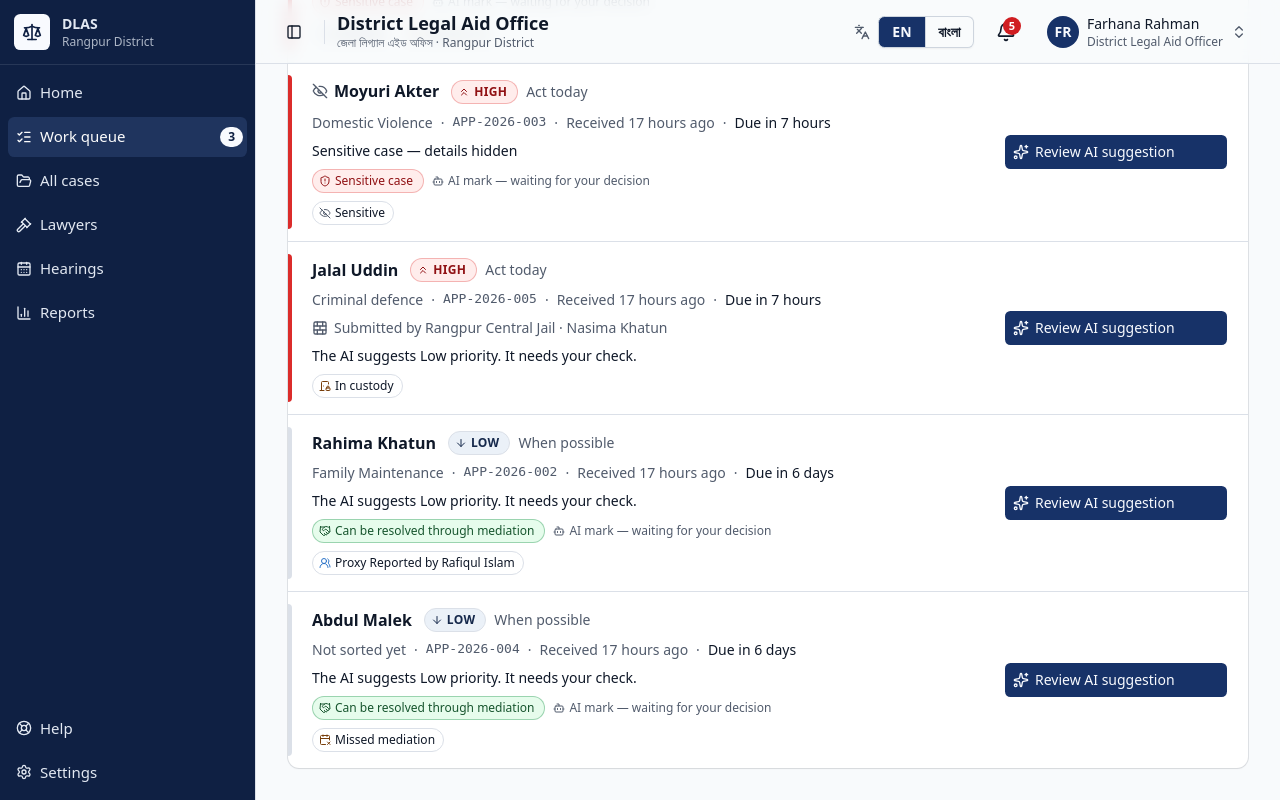
with a backend (VITE_API_URL) › shows the lawyer's court reports and the hearings the server reports
(page scrolled)
Click the button "Rahima Khatun" at x=374, y=443, box [312,431,436,455]
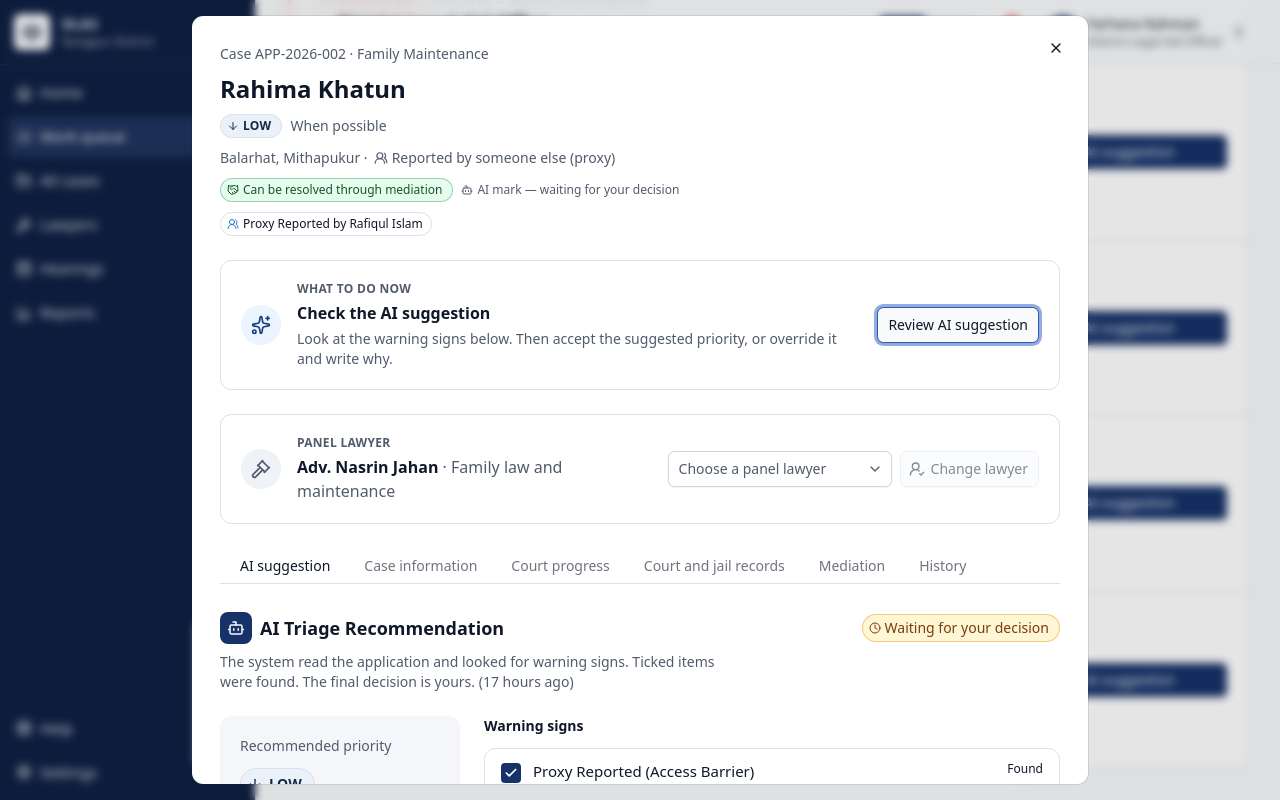
Click the tab "Court progress" at x=561, y=566, box [494,546,627,586]
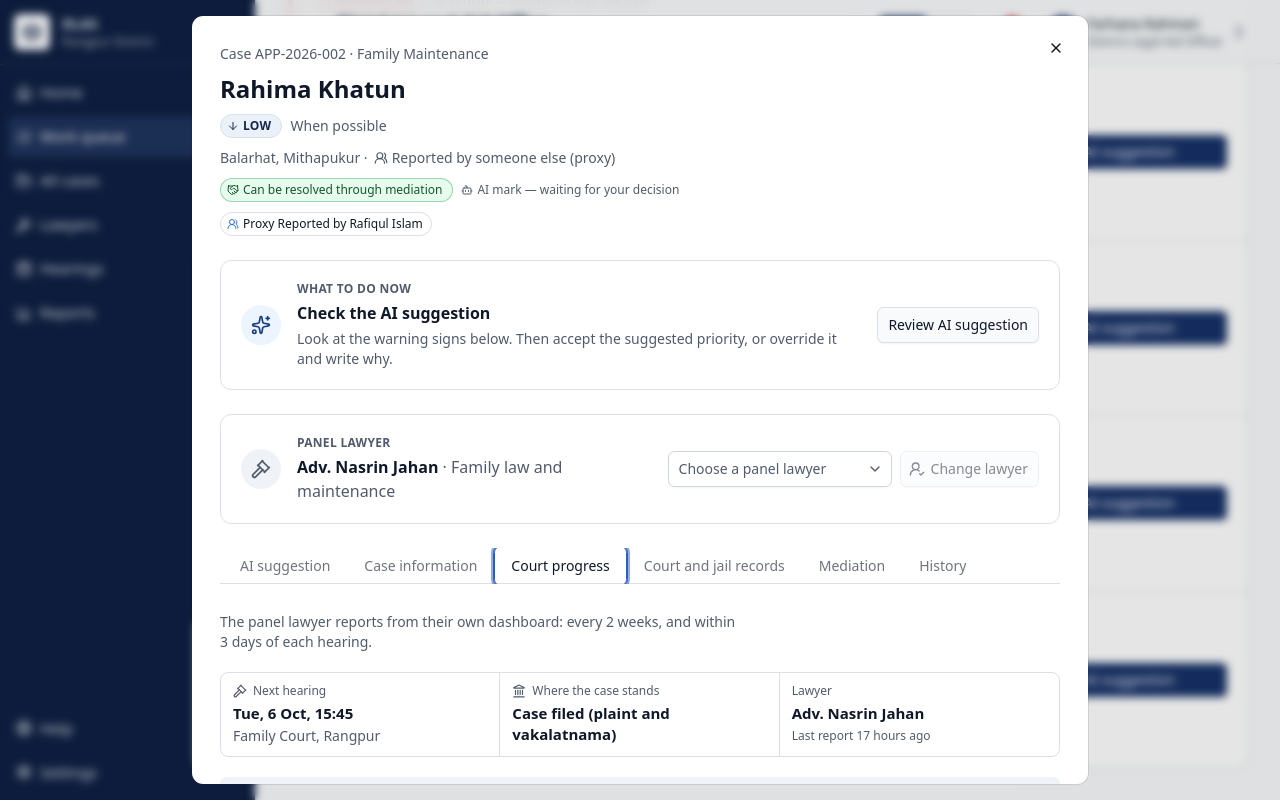
Now the panel shows "Adv. Nasrin Jahan", box [792,703,924,723]
Click the tab "Case information" at x=421, y=566, box [347,546,494,586]
(page scrolled)
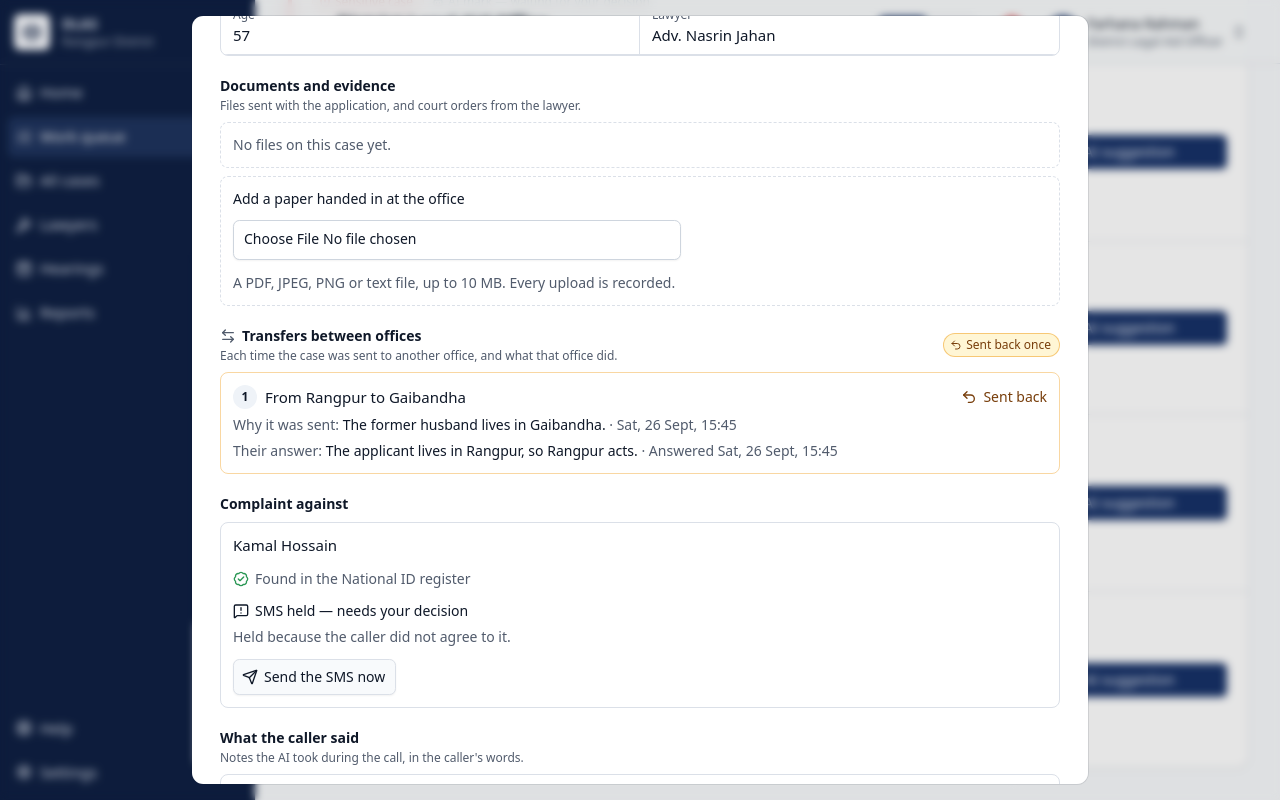
Now the element "Transfers between offices" shows "From Rangpur to Gaibandha", box [265,387,466,407]
Now the element "Transfers between offices" shows "The applicant lives in Rangpur, so Rangpur acts.", box [326,441,638,460]
Press Escape
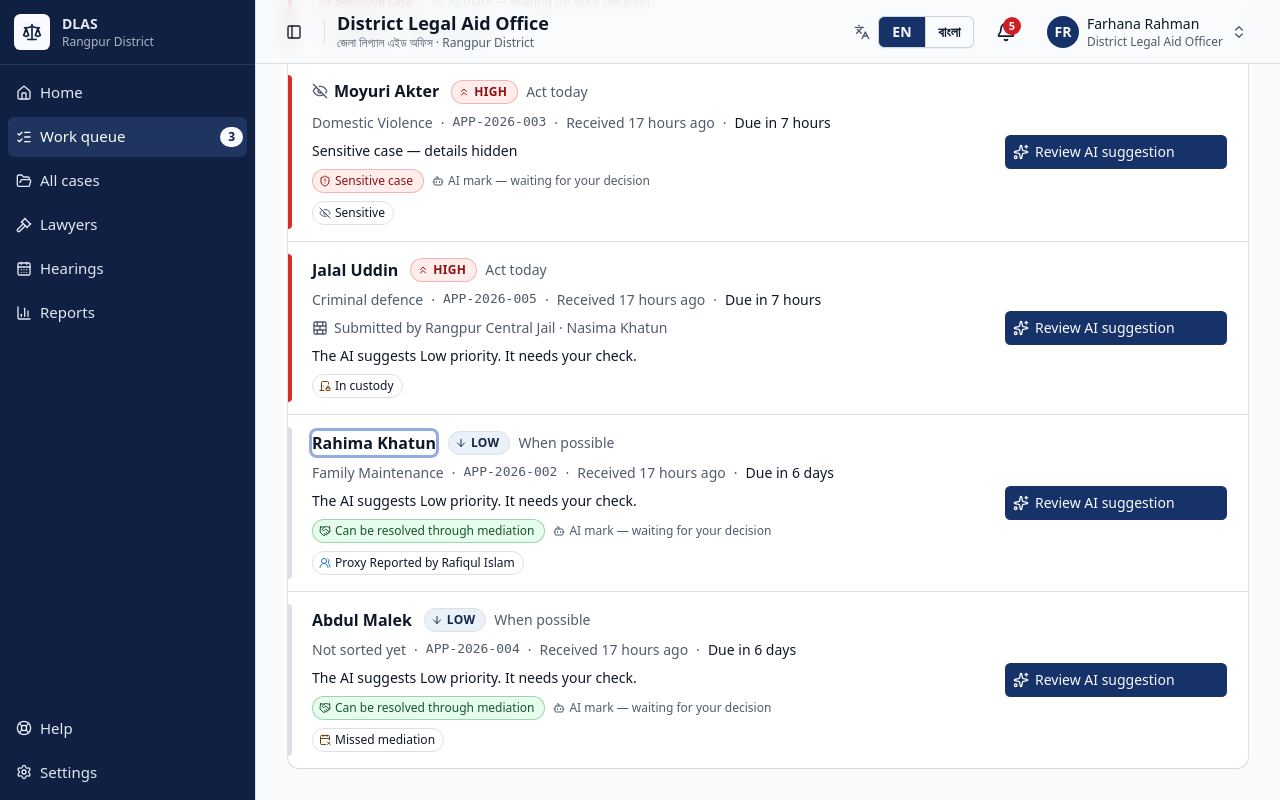
Click the link "Hearings" at x=60, y=268, box [16,258,104,278]
(page scrolled)
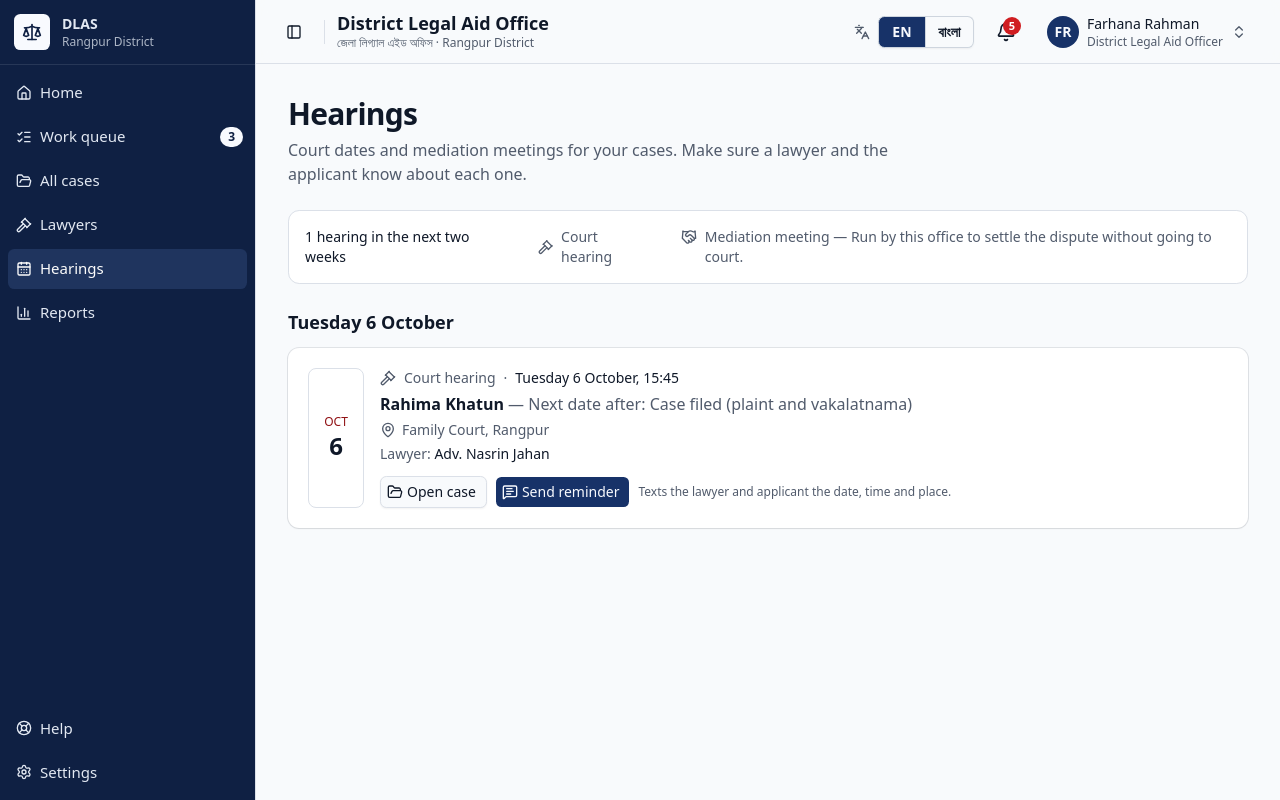
Now the text "— Next date after: Case filed (plaint and vakalatnama)" is shown, box [504,393,912,415]
Now the message reads "1 hearing in the next two weeks", box [305,227,469,266]
